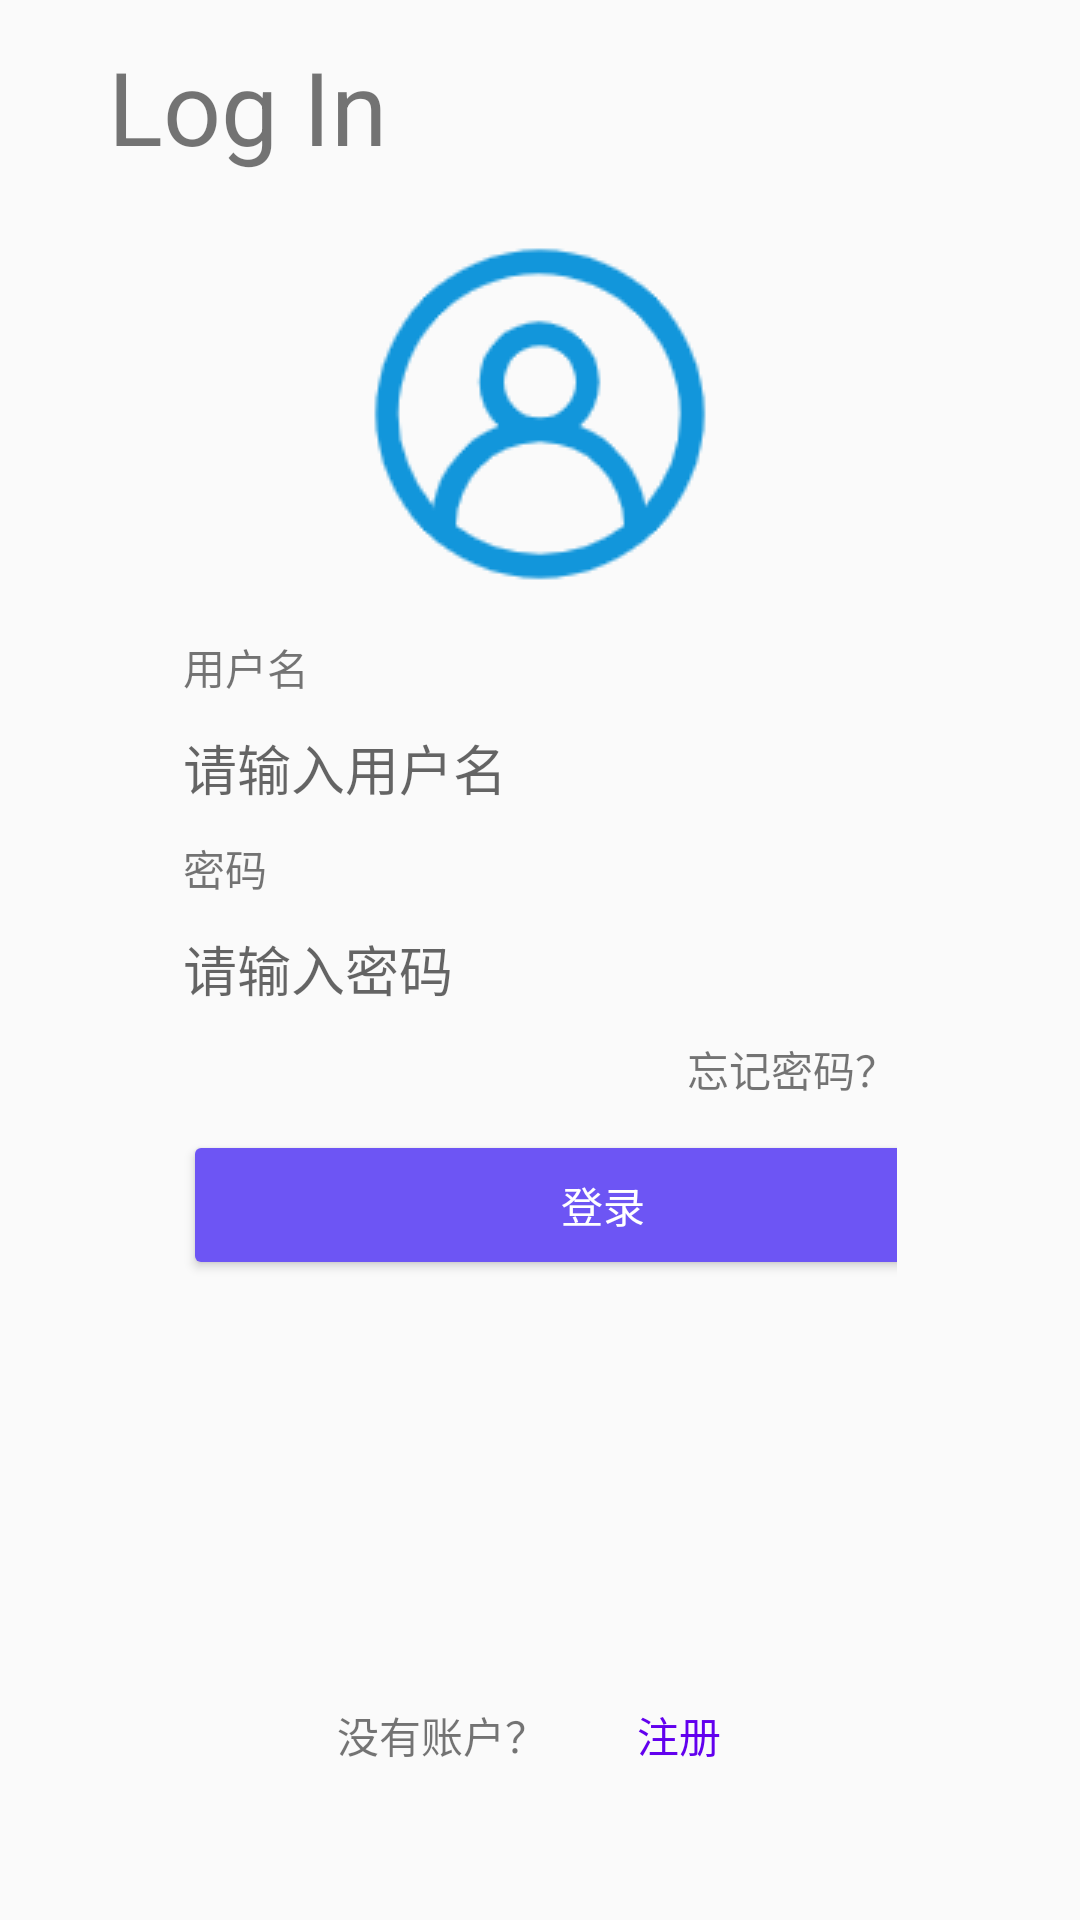

Screen size 1080w x 1920h. Icon name, then its box in pixels as (x1, y1, x2, y2):
user: (374, 248, 706, 580)
